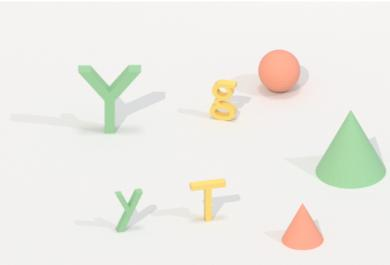0-TamGiac: (312, 107, 389, 190), (280, 202, 328, 255)
0-Tron: (253, 47, 308, 97)
T: (187, 175, 230, 229)
Y: (74, 58, 145, 138)
g: (207, 77, 240, 125)
y: (110, 184, 144, 235)
